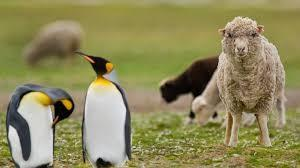king: (70, 46, 143, 168), (0, 77, 85, 167)
